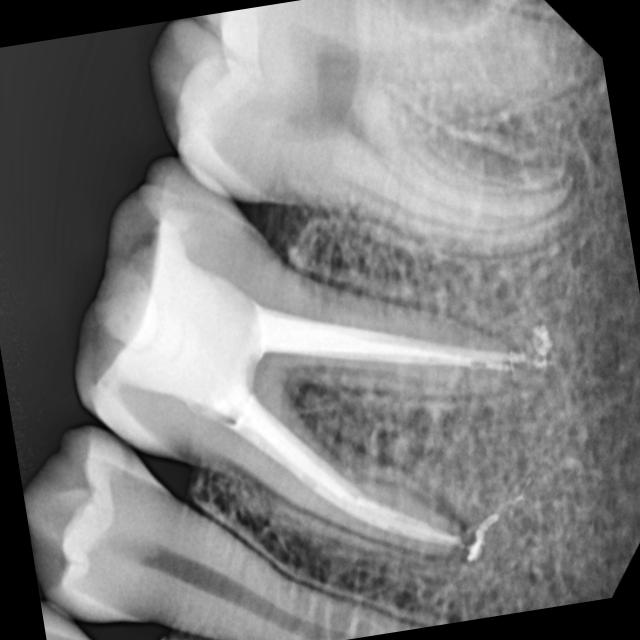Normal: (133, 0, 563, 307)
RCT: (48, 136, 580, 619)
